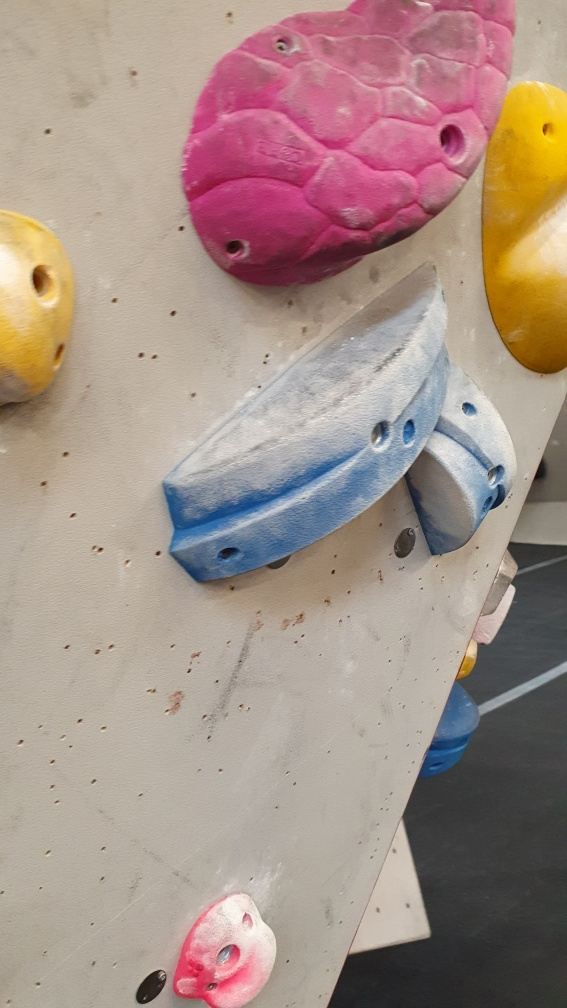Hand Start: (133, 962, 170, 1007), (392, 522, 421, 565)
Pinch: (163, 257, 451, 588), (402, 359, 520, 558), (420, 676, 481, 779)
